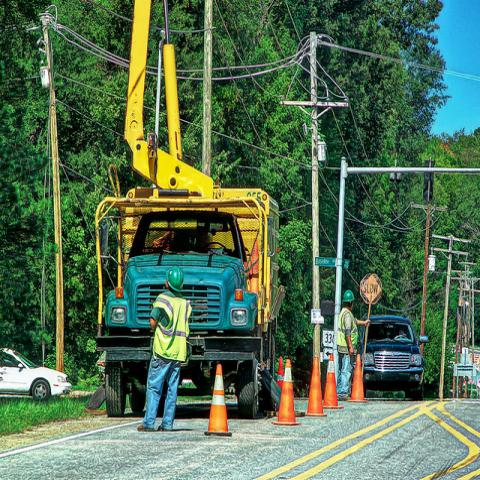car: (360, 314, 428, 400), (1, 349, 74, 402)
truck: (94, 1, 285, 420), (364, 314, 427, 398)
